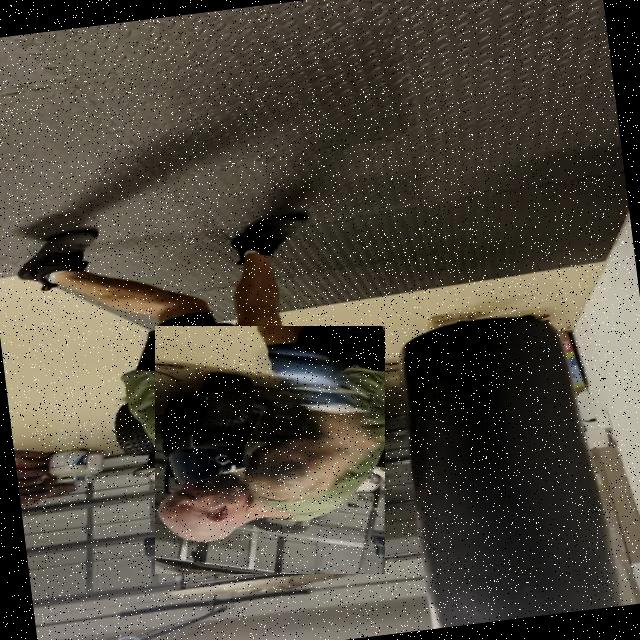punch: (155, 326, 385, 574)
